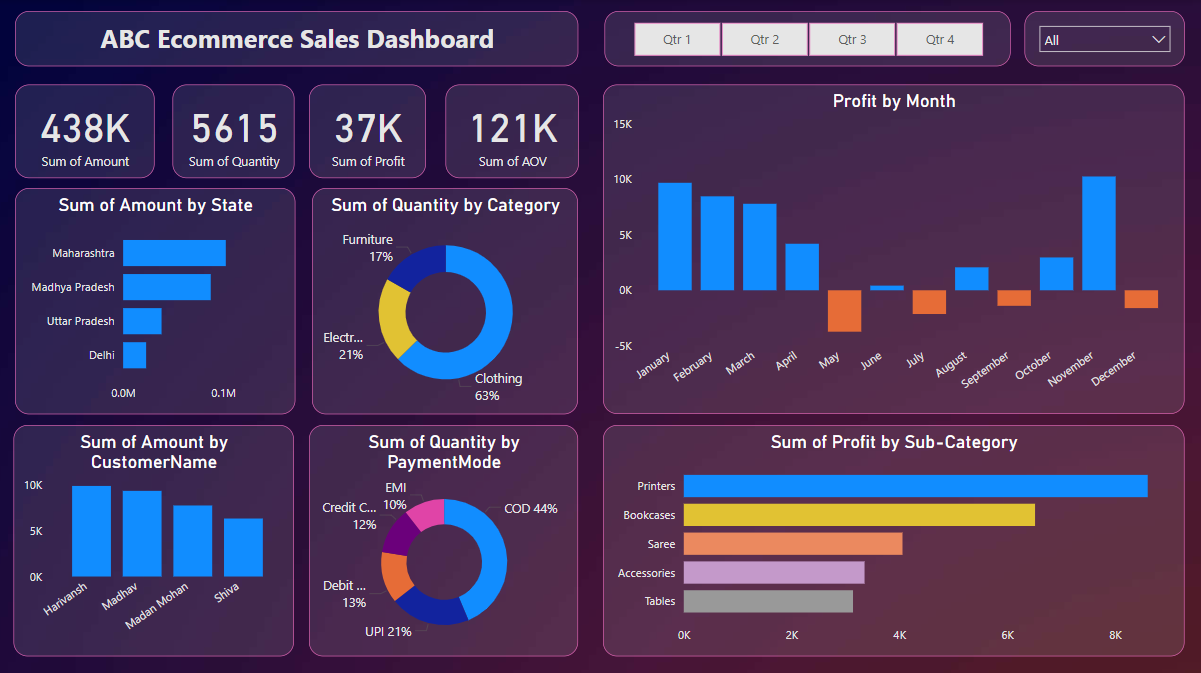

The dashboard page shown, as its layout file describes it:
{"tool":"powerbi","page":{"name":"Page 1","canvas":[1280,720],"ordinal":0},"visuals":[{"type":"textbox","box":[15.9,12.7,597.6,58.8],"z":0},{"type":"columnChart","title":"Profit by Month","fields":{"Y":["Details.Profit"],"Category":["Orders.Order Date.Variation.Date Hierarchy.Month"]},"box":[640,90.7,616.5,349.4],"z":1000},{"type":"barChart","fields":{"Category":["Details.Sub-Category","Orders.CustomerName"],"Y":["Details.Profit"]},"box":[640,451.9,616.5,245.2],"z":2000},{"type":"donutChart","fields":{"Category":["Details.Category"],"Y":["Details.Quantity"]},"box":[330.9,199.9,282.2,240.2],"z":3000},{"type":"donutChart","fields":{"Y":["Details.Quantity"],"Category":["Details.PaymentMode"]},"box":[327.6,451.9,285.6,245.2],"z":4000},{"type":"card","fields":{"Values":["Details.Amount"]},"box":[15.1,90.7,147.8,99.1],"z":5000},{"type":"card","fields":{"Values":["Details.Quantity"]},"box":[183.1,90.7,129.3,99.1],"z":6000},{"type":"card","fields":{"Values":["Details.Profit"]},"box":[327.6,90.7,124.3,99.1],"z":7000},{"type":"card","fields":{"Values":["Details.AOV"]},"box":[472,90.7,141.1,99.1],"z":8000},{"type":"barChart","fields":{"Category":["Orders.State"],"Y":["Details.Amount"]},"box":[15.1,199.9,297.3,240.2],"z":9000},{"type":"columnChart","fields":{"Category":["Orders.CustomerName"],"Y":["Details.Amount"]},"box":[15,452,297,245],"z":10000},{"type":"slicer","fields":{"Values":["Orders.Order Date.Variation.Date Hierarchy.Quarter"]},"box":[640.5,12.7,430.7,58.8],"z":11000},{"type":"slicer","fields":{"Values":["Orders.State"]},"box":[1087.2,12.7,170.1,58.8],"z":12000}]}

Visuals, with their boxes in screenshot pixels (x1, y1, x2, y2), scaled from the page's 1280x720 canvas onto the 1201x673 screenshot:
textbox: x1=15 y1=12 x2=576 y2=67
"Profit by Month" columnChart: x1=600 y1=85 x2=1179 y2=411
barChart - Details.Sub-Category x Orders.CustomerName: x1=600 y1=422 x2=1179 y2=652
donutChart - Details.Category x Details.Quantity: x1=310 y1=187 x2=575 y2=411
donutChart - Details.Quantity x Details.PaymentMode: x1=307 y1=422 x2=575 y2=652
card - Details.Amount: x1=14 y1=85 x2=153 y2=177
card - Details.Quantity: x1=172 y1=85 x2=293 y2=177
card - Details.Profit: x1=307 y1=85 x2=424 y2=177
card - Details.AOV: x1=443 y1=85 x2=575 y2=177
barChart - Orders.State x Details.Amount: x1=14 y1=187 x2=293 y2=411
columnChart - Orders.CustomerName x Details.Amount: x1=14 y1=422 x2=293 y2=652
slicer - Orders.Order Date.Variation.Date Hierarchy.Quarter: x1=601 y1=12 x2=1005 y2=67
slicer - Orders.State: x1=1020 y1=12 x2=1180 y2=67
